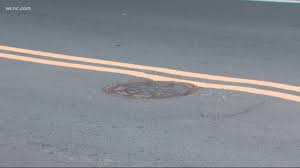Manhole-Closed: (108, 67, 200, 102)
